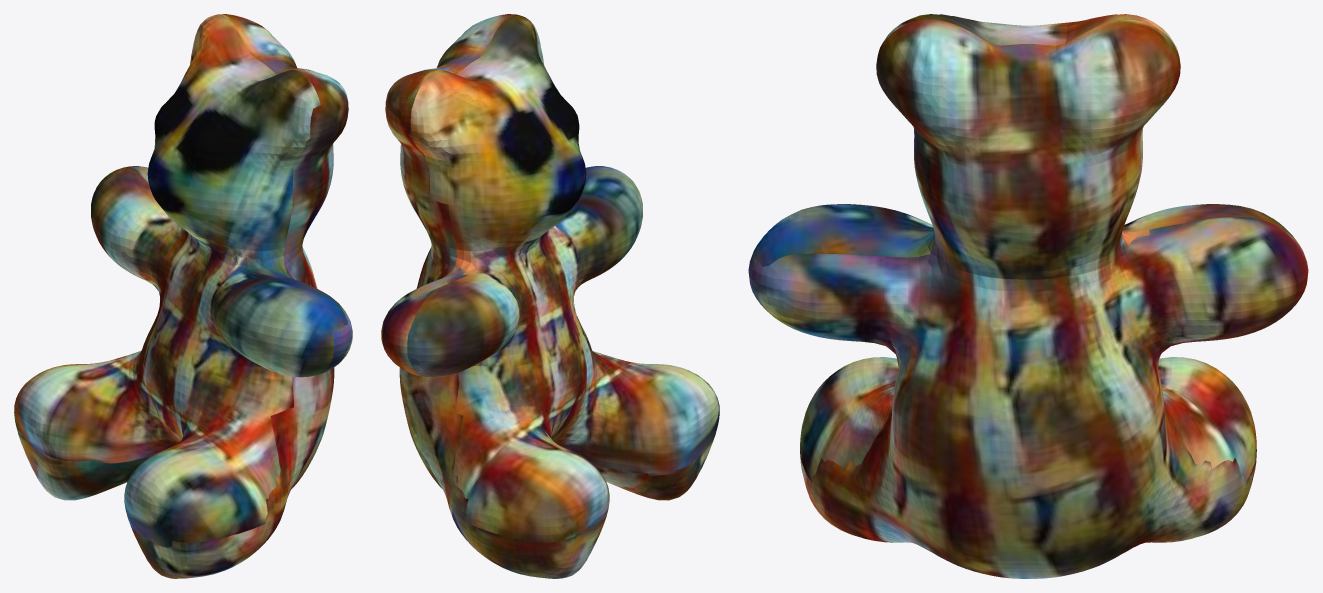
The model's file is teddy_naive.glb.
3 renders of one model, left to right at view 1: azimuth 30°, elevation 25°; view 2: azimuth 150°, elevation 25°; view 3: azimuth 270°, elevation 25°, orthographic. The views are drawn at different scales.
Parts seen in each view (by area): view 1: Sphere_Sphere.002; view 2: Sphere_Sphere.002; view 3: Sphere_Sphere.002.
Boxes of the visible parts, x1,y1,x2,y2 form: Sphere_Sphere.002: [14, 14, 352, 578]; Sphere_Sphere.002: [381, 14, 719, 578]; Sphere_Sphere.002: [748, 14, 1308, 578].
Size of the model in its own units: 3.12 by 5.66 by 4.87.
1 material, 1 textured.
